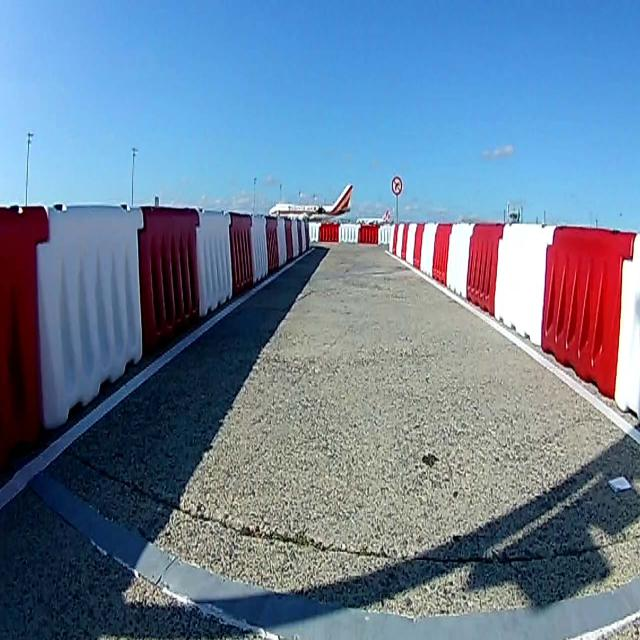sagadonulmez: (392, 177, 402, 195)
